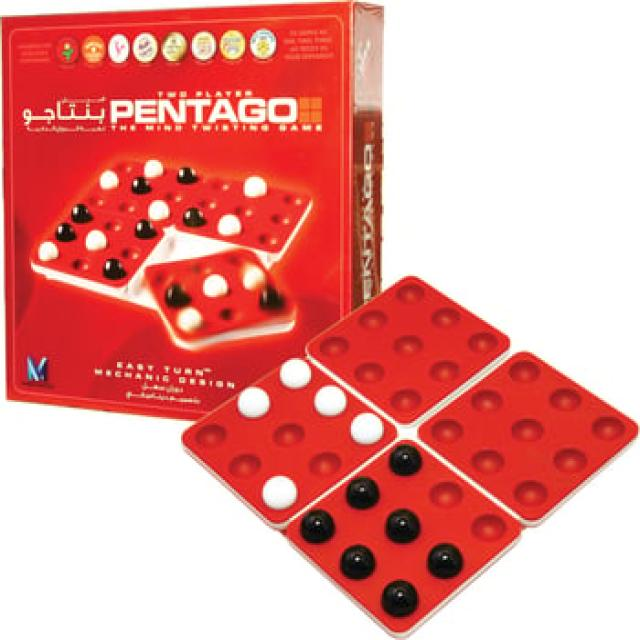pentago: (2, 1, 404, 423), (180, 272, 639, 640), (426, 538, 466, 580), (388, 440, 424, 478), (261, 475, 299, 511), (384, 508, 422, 543), (382, 580, 418, 616), (345, 476, 381, 511), (303, 508, 335, 546), (342, 545, 376, 579), (236, 386, 268, 419), (280, 358, 312, 390), (350, 414, 383, 444), (316, 386, 348, 416)
